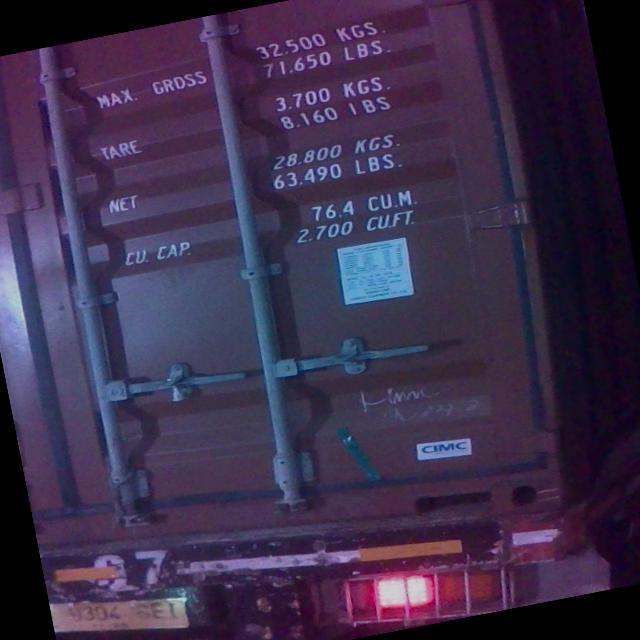seal: (158, 366, 200, 414)
